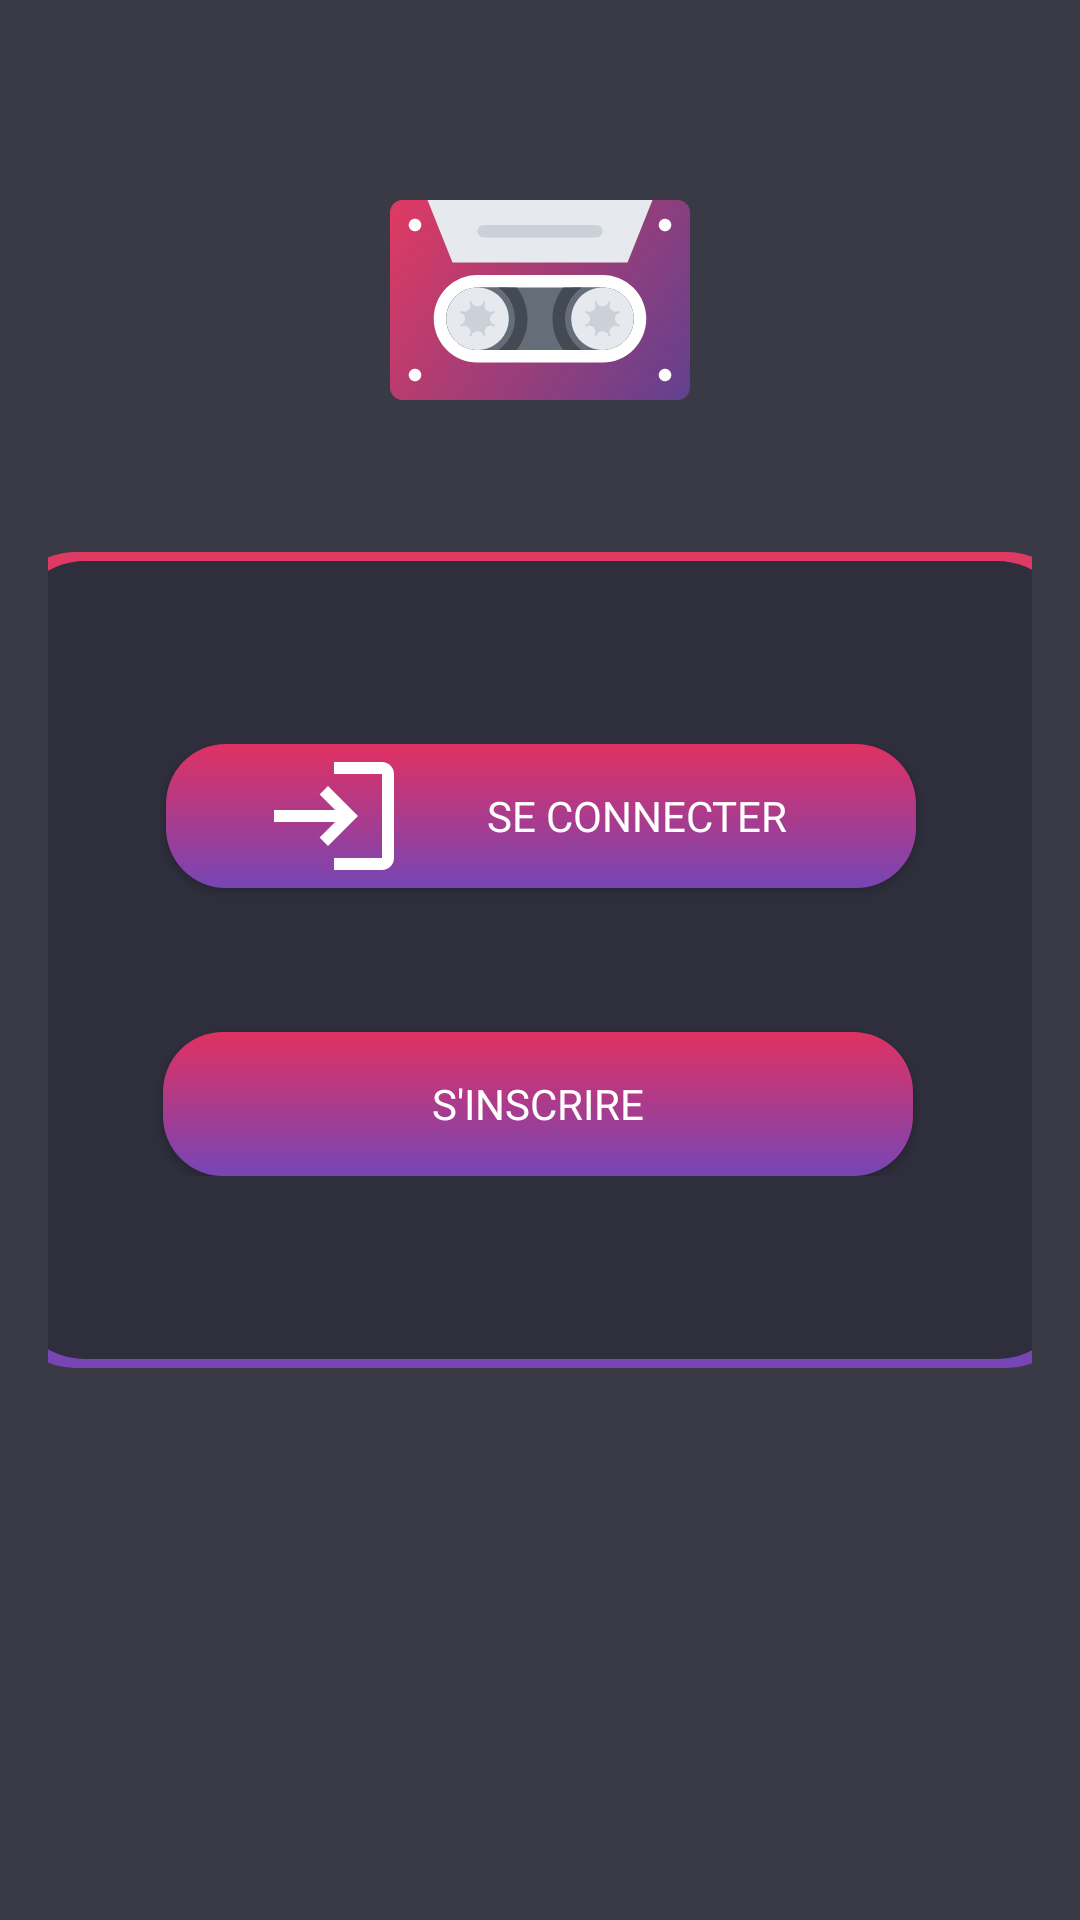

Point at icon controls on the screen. Image size 1080 x 1920, points as point (x, y).
App icons: point (540, 300)
